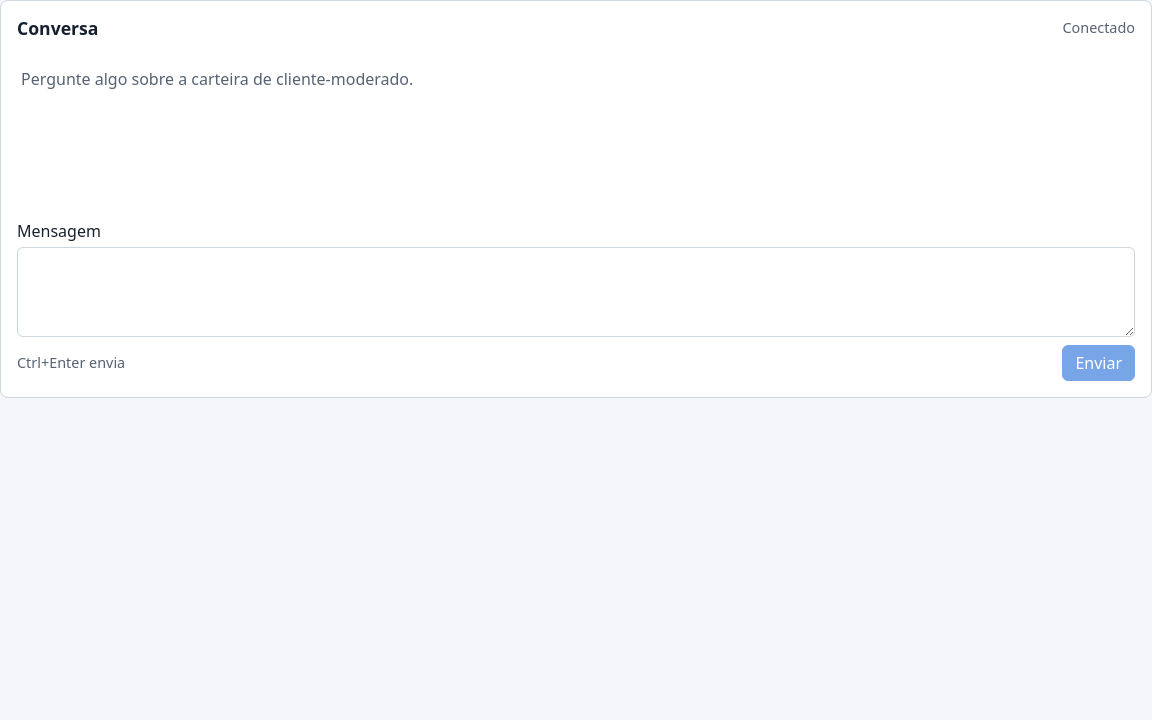
Test: ChatView › predictor vira tabela de cenários e risk mostra o VaR em R$
Expected: the text "Conectado" is shown, [1062,17,1135,39]
In the text box labelled "Mensagem": (576, 292) [17,247,1135,337], type "projeta"
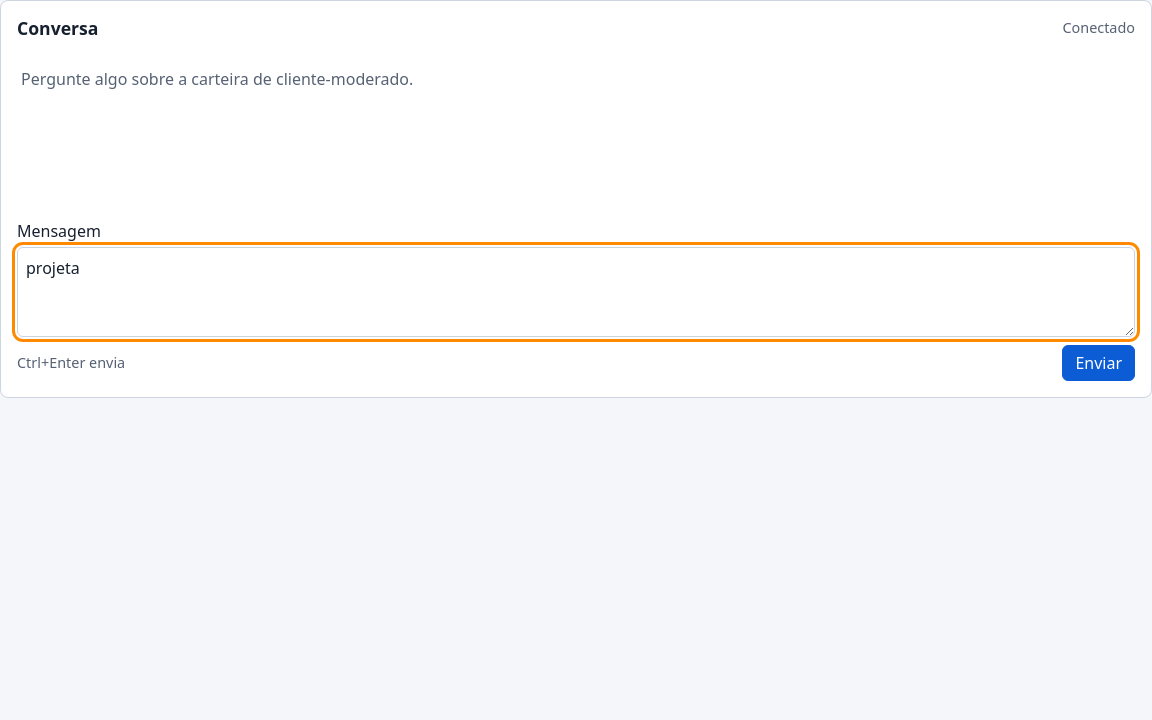
Click the button "Enviar": (1099, 363) [1062,345,1135,381]
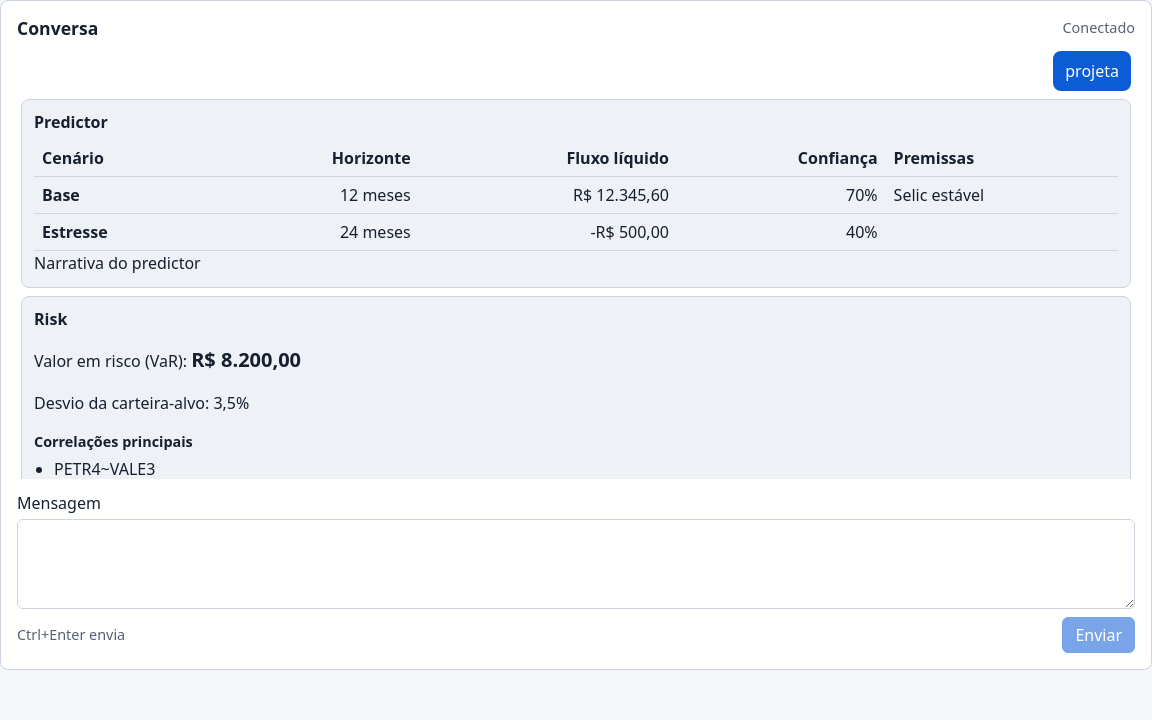
Expected: the column heading "Base" is shown, [34,176,212,214]
Expected: the text "R$ 12.345,60" is shown, [419,176,677,214]
Expected: the text "-R$ 500,00" is shown, [419,214,677,250]
